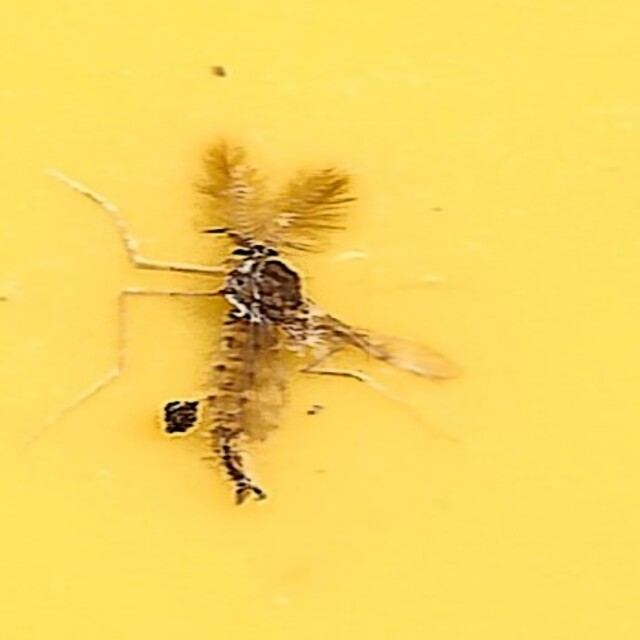Nematocera: (183, 133, 457, 507)
